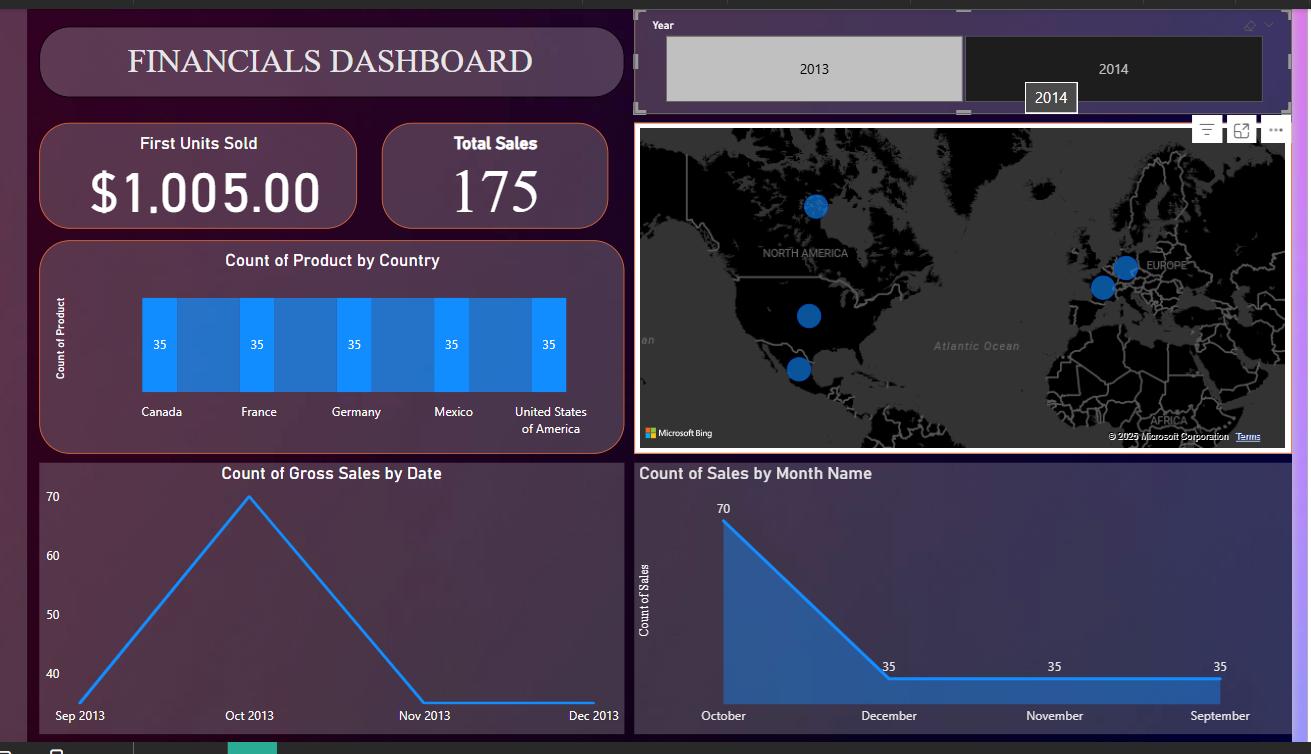

This screenshot's page, from the dashboard's own definition file:
{"tool":"powerbi","page":{"name":"Page 1","canvas":[1280,720],"ordinal":0},"visuals":[{"type":"textbox","box":[50.3,17.2,574.2,69.9],"z":0},{"type":"card","title":"Total Sales","fields":{"Values":["CountNonNull(Financials.  Sales )"]},"box":[386.5,111.7,222.1,104.3],"z":1000},{"type":"map","fields":{"Size":["CountNonNull(Financials.Country)"],"Category":["Financials.Country"]},"box":[634.4,111.7,645.4,325.2],"z":2000},{"type":"slicer","fields":{"Values":["Financials.Year"]},"box":[634.4,0,645.4,103.1],"z":3000},{"type":"stackedAreaChart","fields":{"Category":["Financials. Month Name "],"Y":["CountNonNull(Financials.  Sales )"]},"box":[634.4,445.4,645.4,266.3],"z":4000},{"type":"card","title":"First Units Sold","fields":{"Values":["Min(Financials. Units Sold )"]},"box":[50.3,111.7,311.7,104.3],"z":4001},{"type":"lineChart","fields":{"Category":["Financials.Date"],"Y":["CountNonNull(Financials. Gross Sales )"]},"box":[50.3,445.4,574.2,266.3],"z":4002},{"type":"pageNavigator","title":"PAGE 1","box":[0,0,38,720.2],"z":4003},{"type":"ribbonChart","fields":{"Category":["Financials.Country"],"Y":["CountNonNull(Financials. Product )"]},"box":[50.3,227,574.2,209.8],"z":4004}]}

Visuals, with their boxes in screenshot pixels (x1, y1, x2, y2):
textbox: [44, 28, 624, 98]
"Total Sales" card: [384, 123, 608, 228]
map - CountNonNull(Financials.Country) x Financials.Country: [634, 123, 1286, 452]
slicer - Financials.Year: [634, 10, 1286, 114]
stackedAreaChart - Financials. Month Name  x CountNonNull(Financials.  Sales ): [634, 460, 1286, 729]
"First Units Sold" card: [44, 123, 359, 228]
lineChart - Financials.Date x CountNonNull(Financials. Gross Sales ): [44, 460, 624, 729]
"PAGE 1" pageNavigator: [0, 10, 32, 738]
ribbonChart - Financials.Country x CountNonNull(Financials. Product ): [44, 240, 624, 451]
